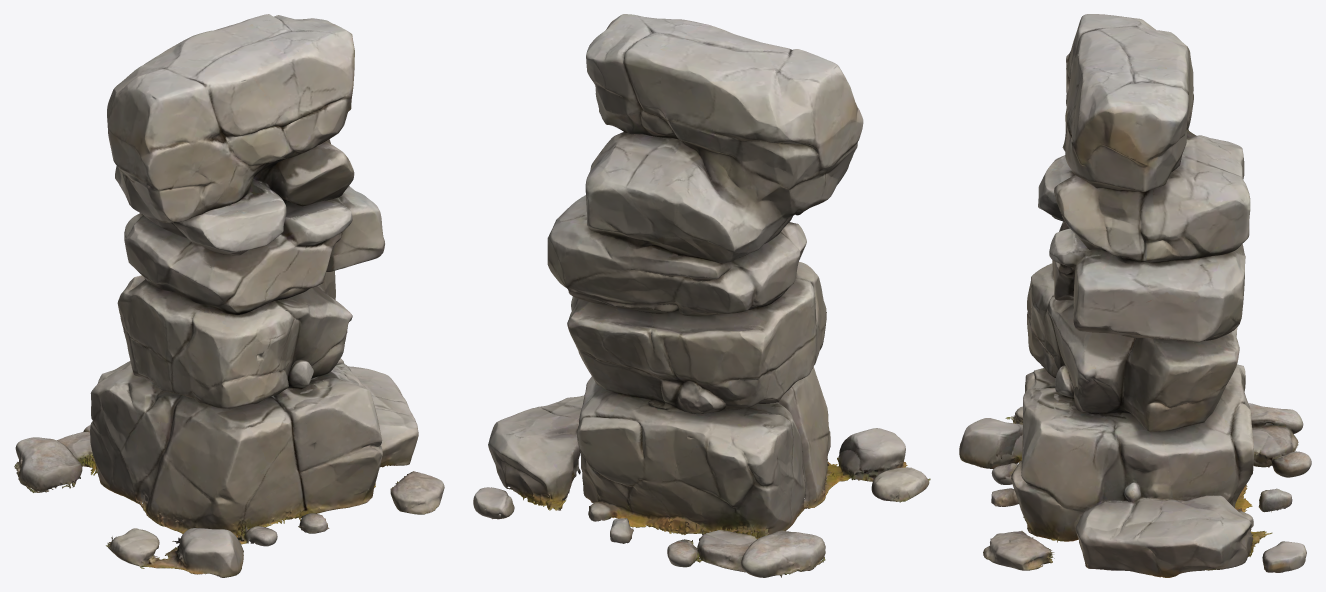
Rendered from Rock_Balance_Tower.glb.
The picture shows the model from 3 angles, left to right: view 1: azimuth 30°, elevation 25°; view 2: azimuth 150°, elevation 25°; view 3: azimuth 270°, elevation 25°; orthographic projection.
Bounding box in the file's own units: 1.62 × 2 × 1.42.
1 material, 1 textured.
